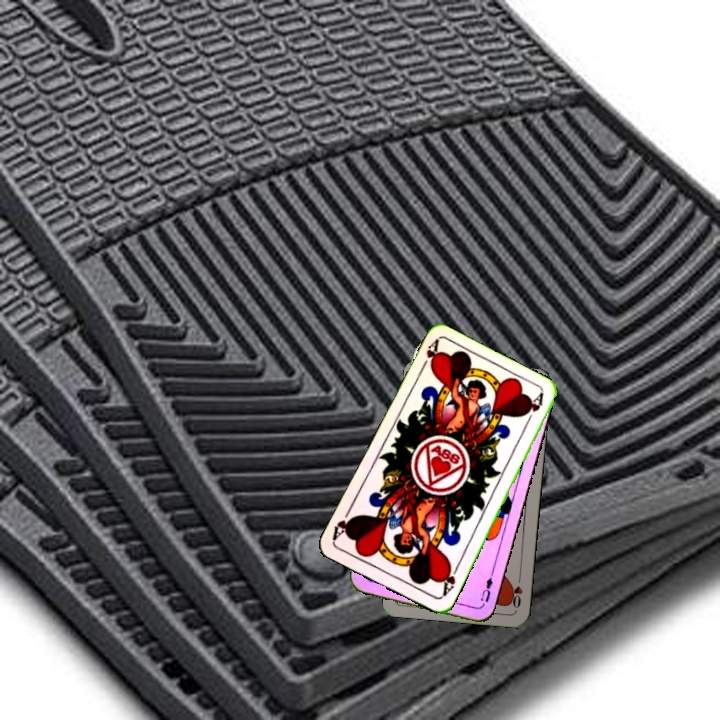EU: (476, 574, 495, 605)
HA: (416, 337, 443, 375), (437, 559, 461, 599)
HO: (507, 571, 525, 611)
